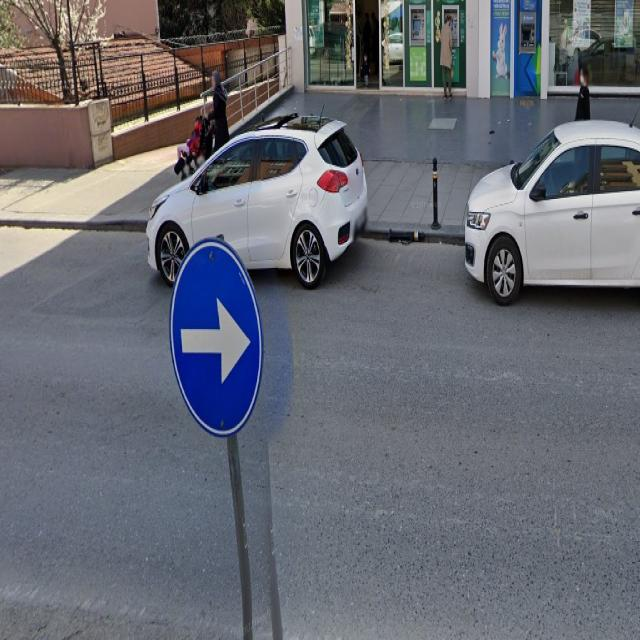Turn Right: (170, 238, 269, 440)
